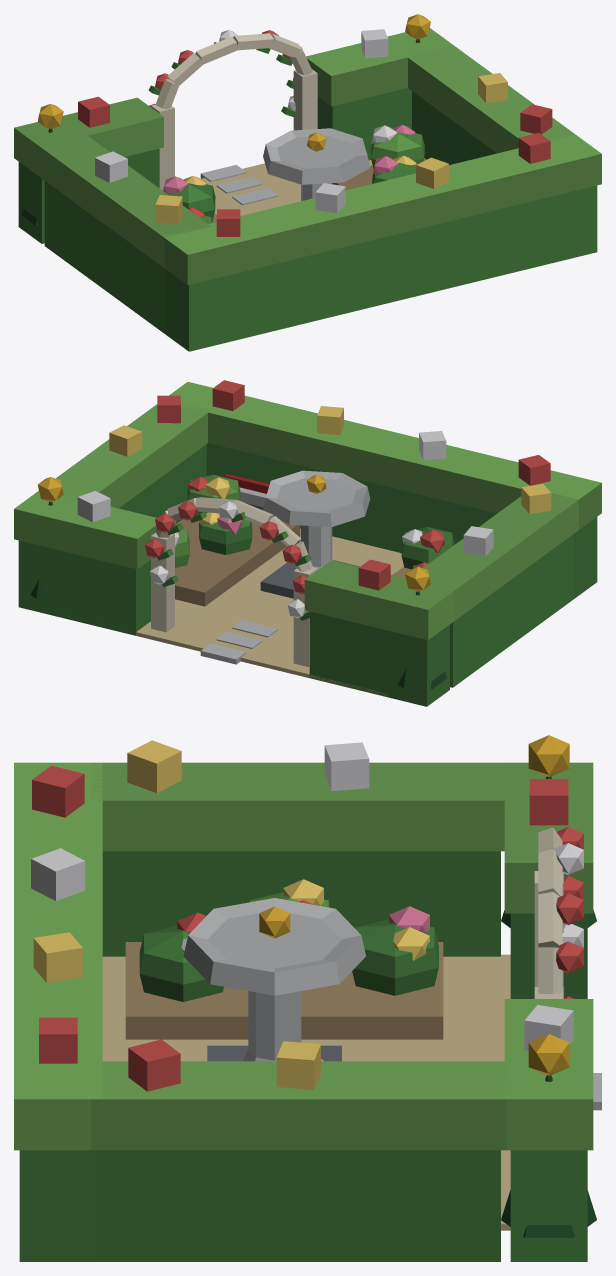
Rendered from Decor_KnightCastle_Garden.fbx.
3 views of the same model, one above another, from view 1: azimuth 30°, elevation 25°; view 2: azimuth 150°, elevation 25°; view 3: azimuth 270°, elevation 25° (orthographic). The views are drawn at different scales.
Parts seen in each view (by area): view 1: Garden_Body; view 2: Garden_Body; view 3: Garden_Body.
Boxes of the visible parts, x1,y1,x2,y2 form: Garden_Body: [14, 14, 601, 351]; Garden_Body: [14, 380, 601, 706]; Garden_Body: [14, 735, 601, 1261].
Bounding box in the file's own units: 16 × 5.6 × 11.8.
